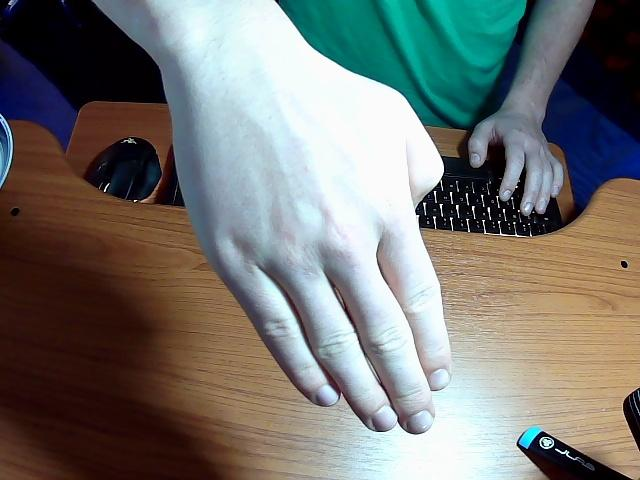paper: (99, 1, 451, 433)
